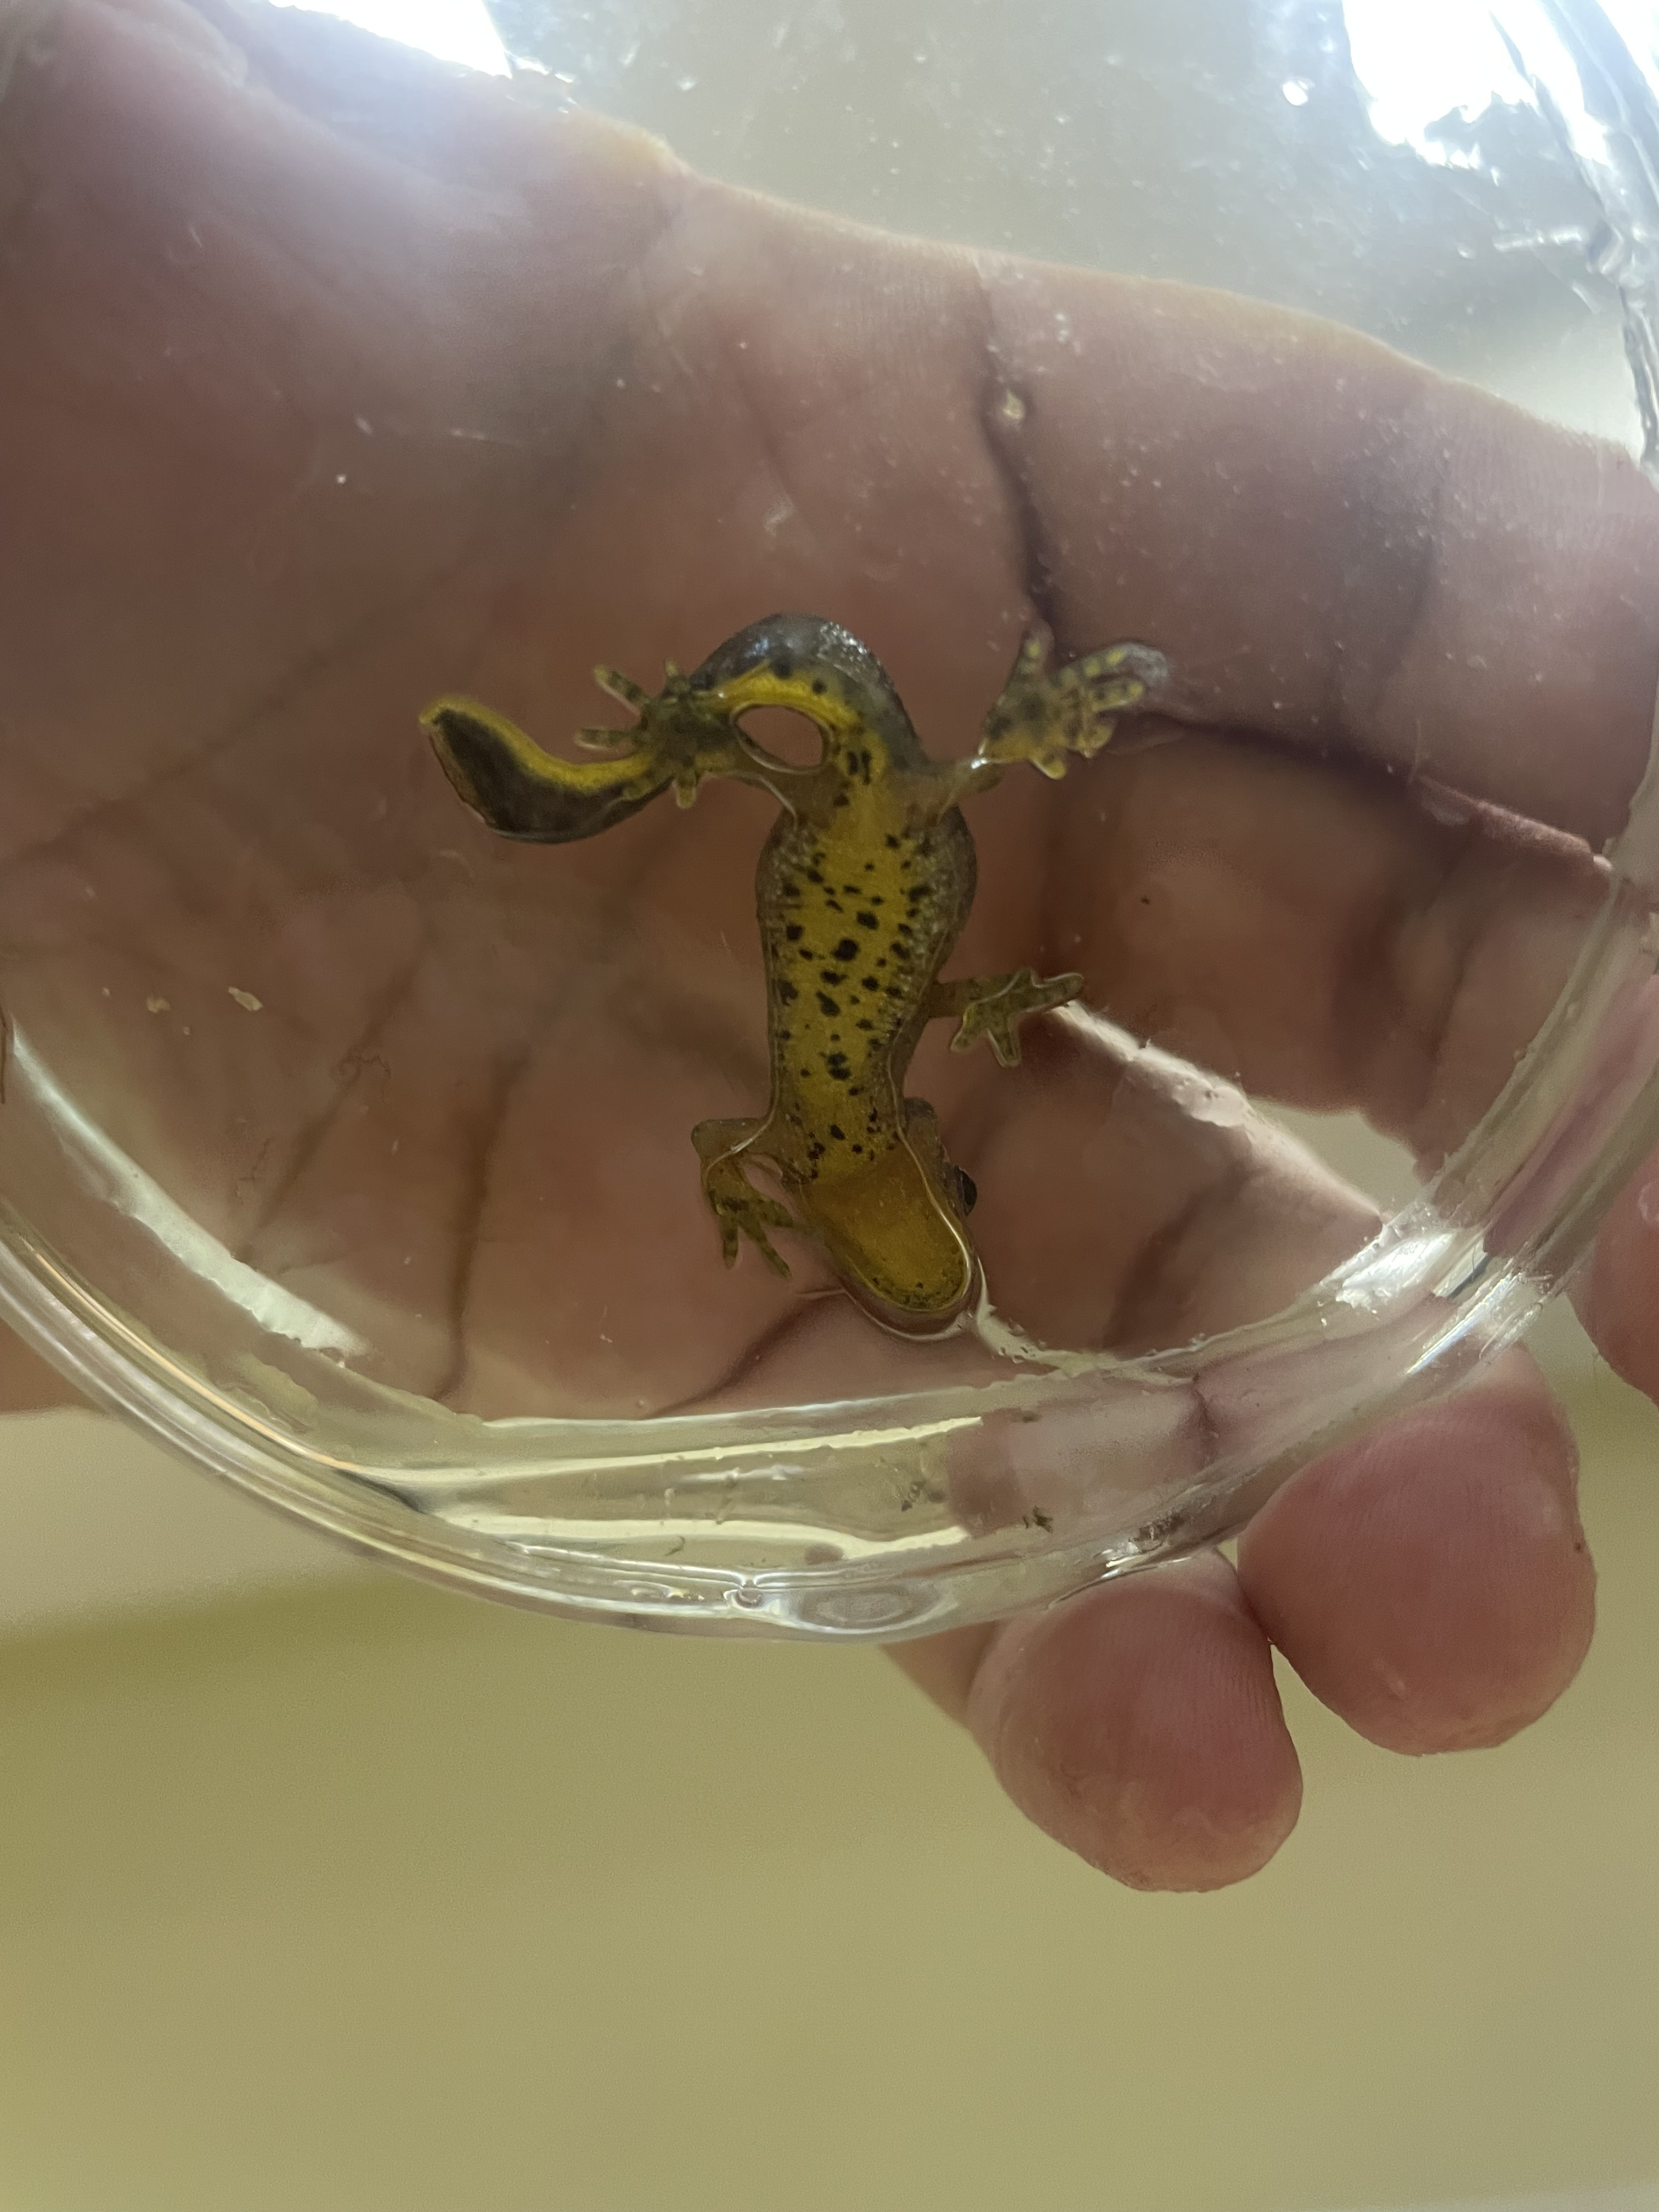Karelin_newt: (756, 806, 976, 1116)
